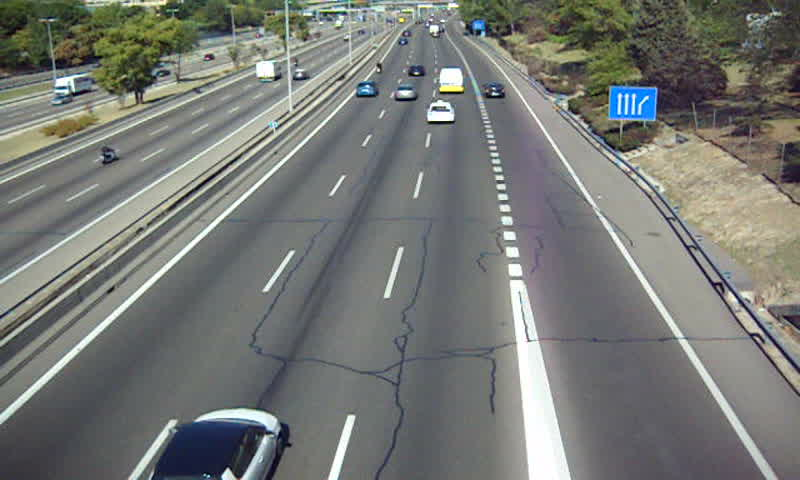car: (151, 407, 282, 480), (425, 101, 457, 124), (482, 83, 505, 100), (394, 86, 417, 103), (355, 82, 376, 100), (406, 64, 426, 76)
van: (437, 69, 464, 94)
